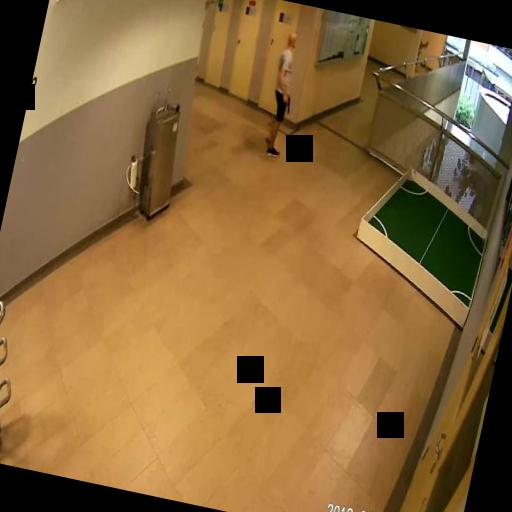Handgun: (278, 93, 292, 112)
